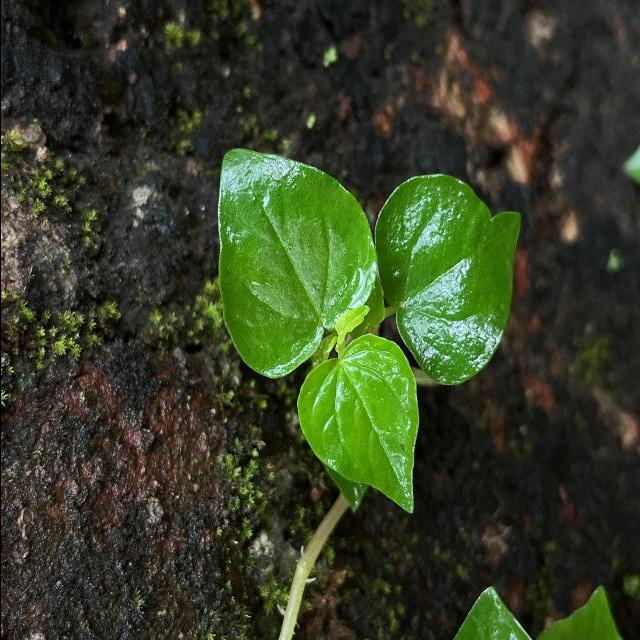Peperomia pellucida: (211, 146, 381, 386), (368, 170, 524, 390), (289, 329, 424, 518)
